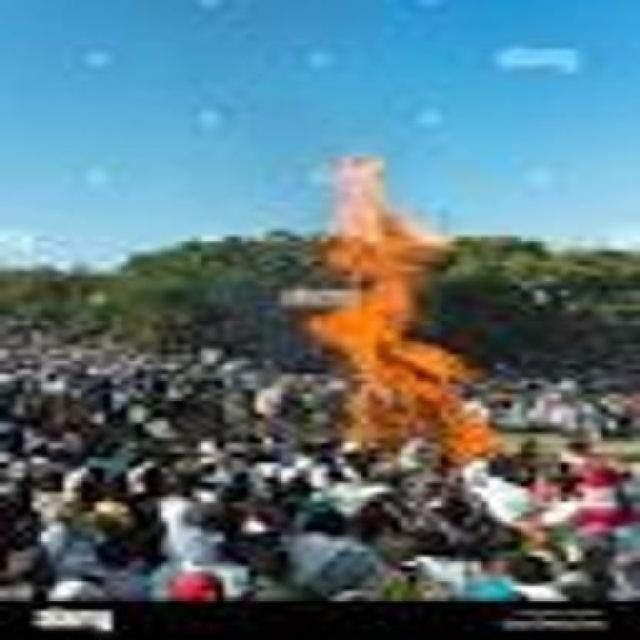Fire: (299, 136, 501, 472)
